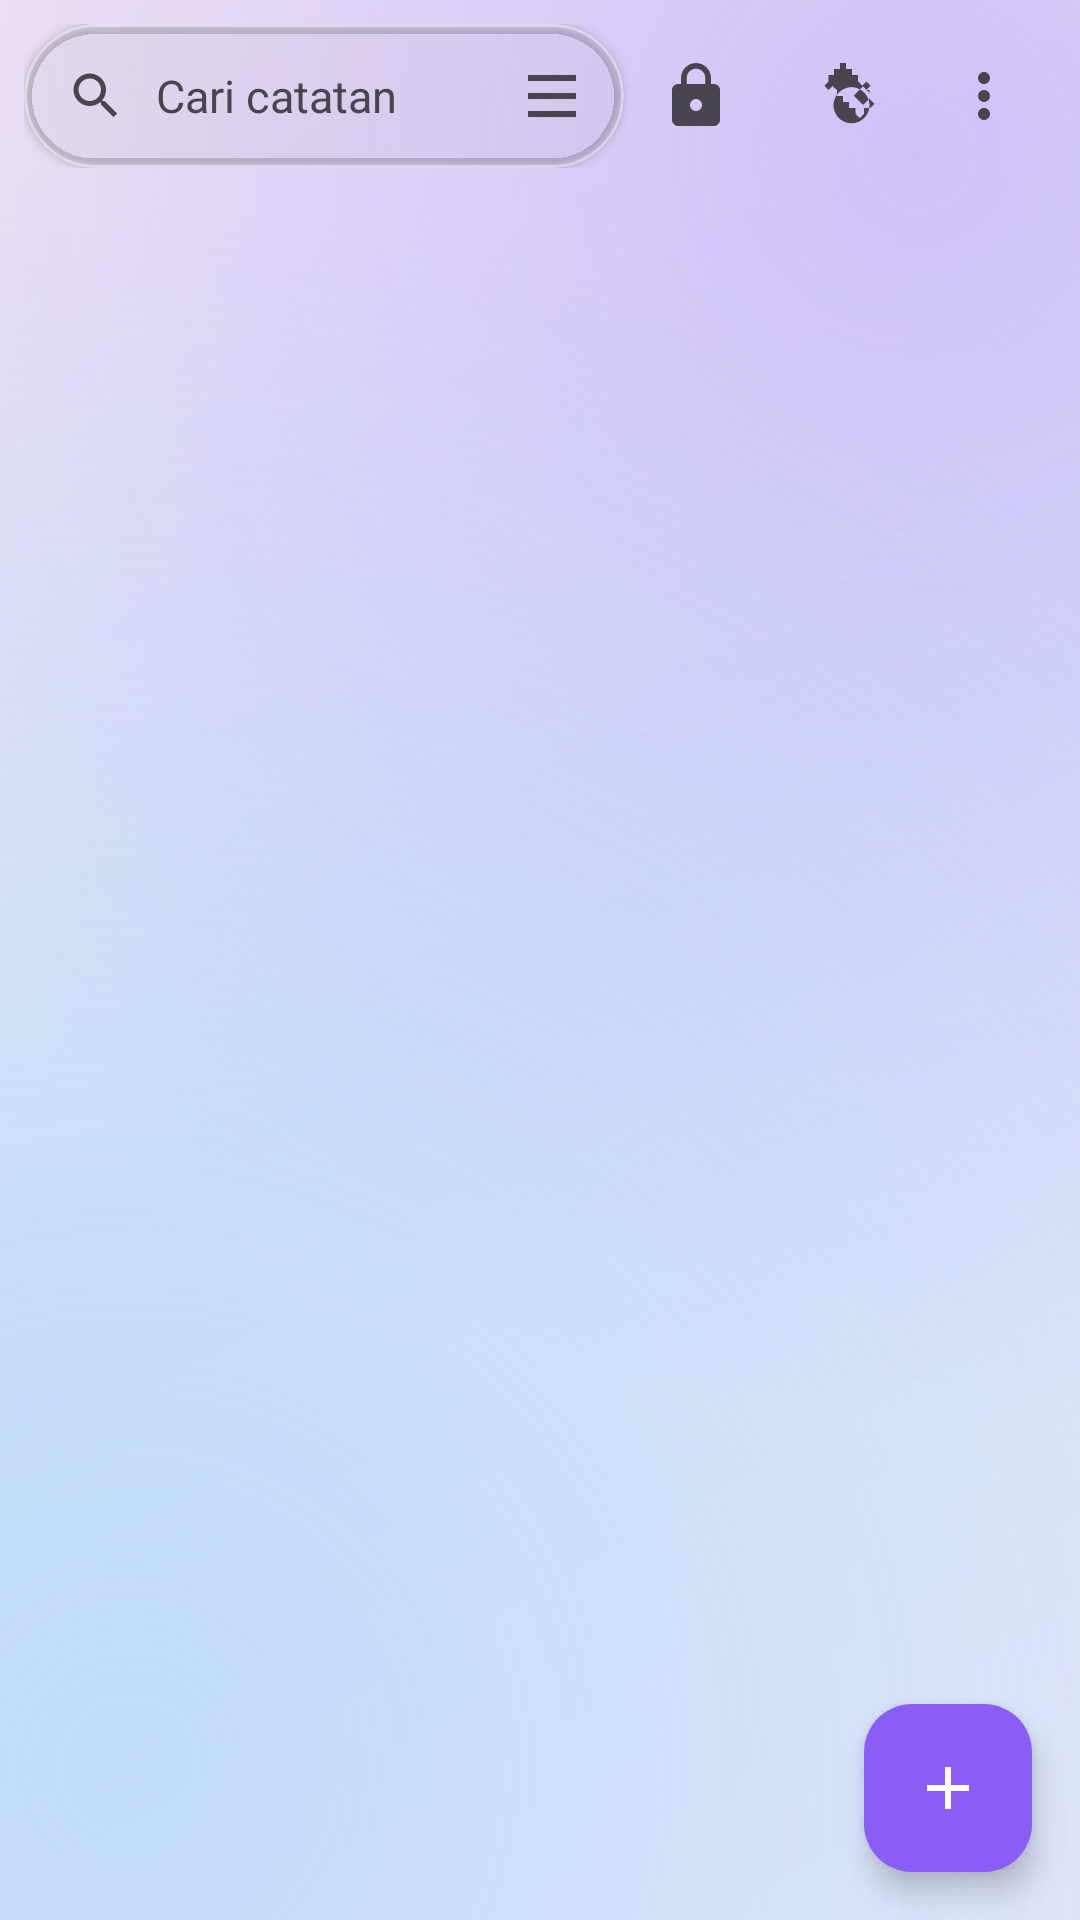

Point at icon controls on the screen. Image size 1080*1920, points as [x,y].
Catatan baru: [948,1788]
Ganti tampilan grid/daftar: [552,96]
Menu lainnya: [984,96]
Ruang privat: [696,94]
search: [95,95]
